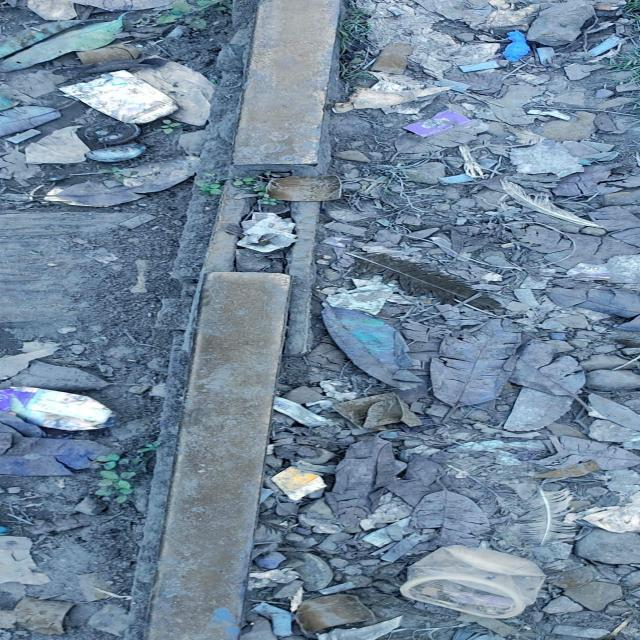Defective Joint: (179, 134, 336, 361)
